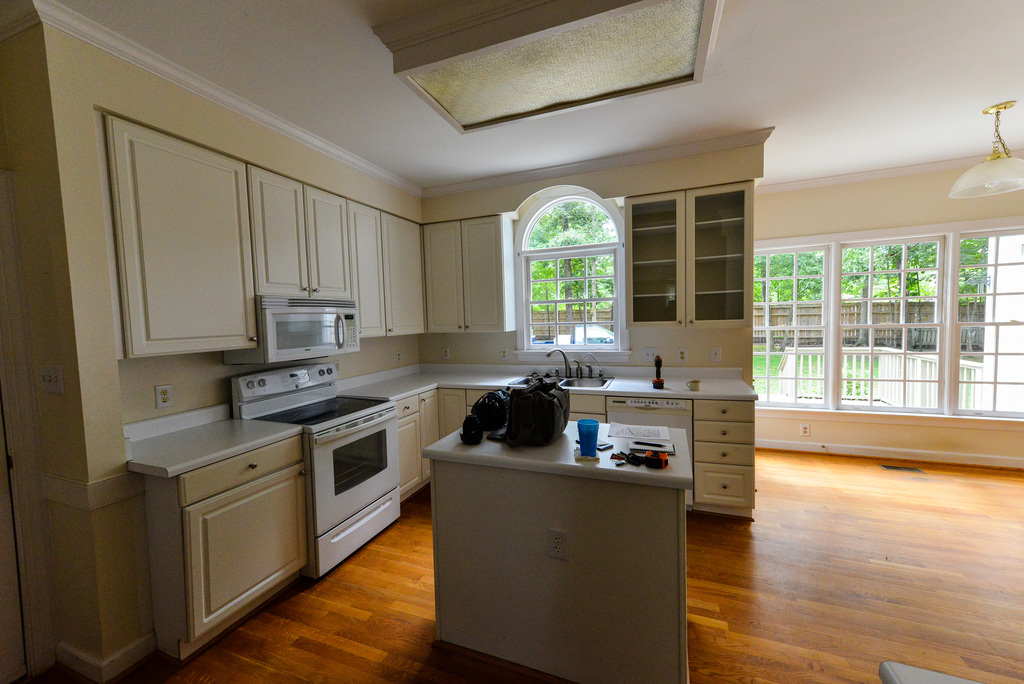cabinet door: (113, 128, 250, 346), (684, 193, 750, 322), (251, 169, 307, 293), (630, 200, 682, 327), (351, 204, 388, 336), (460, 224, 504, 332), (420, 229, 466, 332), (383, 220, 422, 339), (308, 194, 351, 295), (701, 464, 754, 504), (694, 421, 751, 446), (695, 396, 753, 420), (701, 442, 750, 463)
handle: (333, 308, 350, 347), (242, 457, 262, 471), (718, 422, 734, 438), (718, 447, 732, 464), (718, 482, 734, 496), (246, 331, 259, 347), (718, 400, 732, 414)
